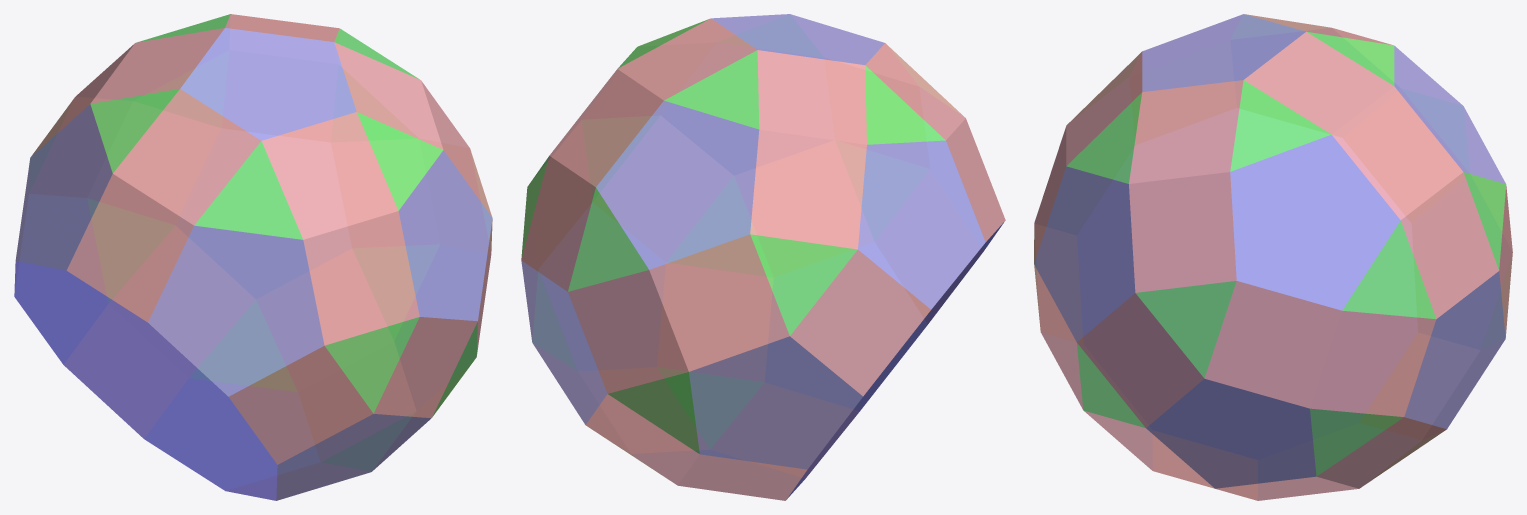
The model's file is j79_bigyrate_diminished_rhombicosidodecahedron.obj.
3 views of the same model, side by side, from view 1: azimuth 30°, elevation 25°; view 2: azimuth 150°, elevation 25°; view 3: azimuth 270°, elevation 25° (orthographic).
Bounding box in the file's own units: 1.93 × 1.98 × 1.95.
